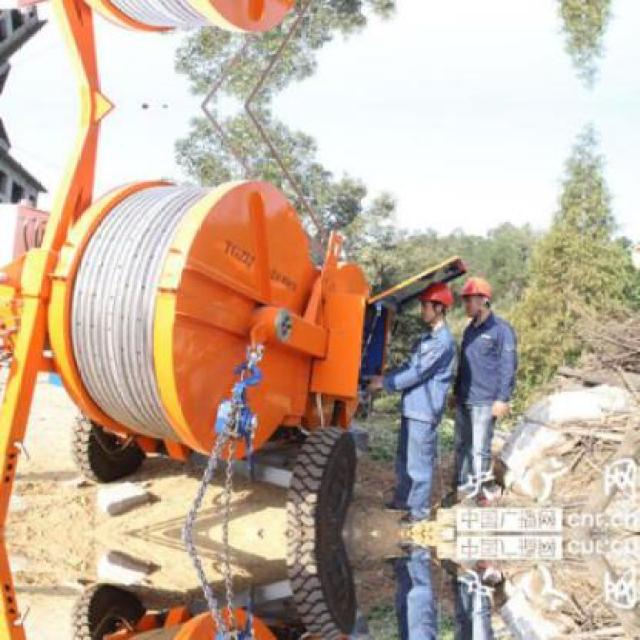helmet: (460, 276, 494, 315), (422, 283, 452, 323)
